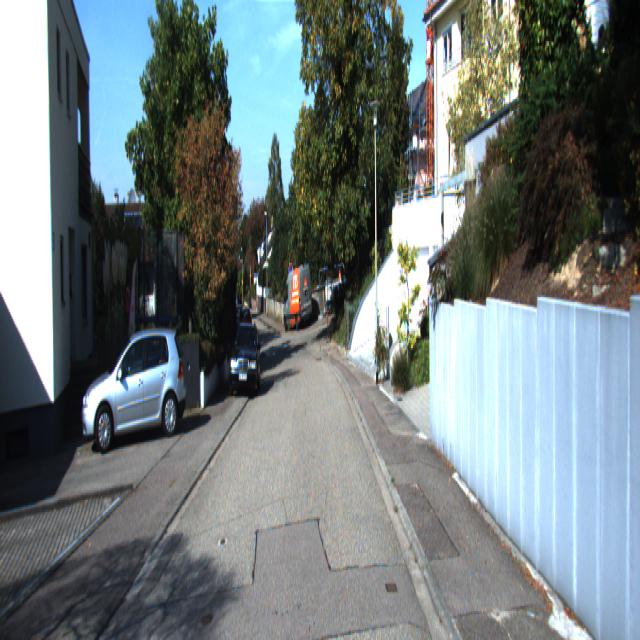Car: (82, 323, 190, 452), (229, 322, 262, 398), (283, 263, 313, 329)
